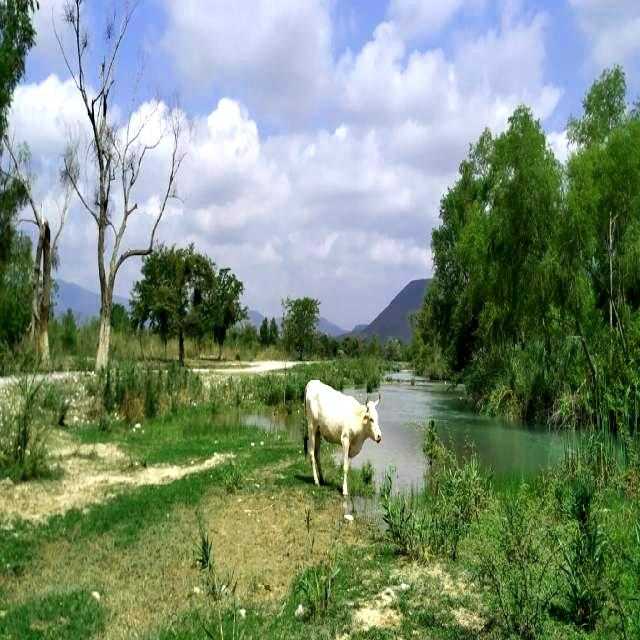COW: (305, 380, 382, 496)
